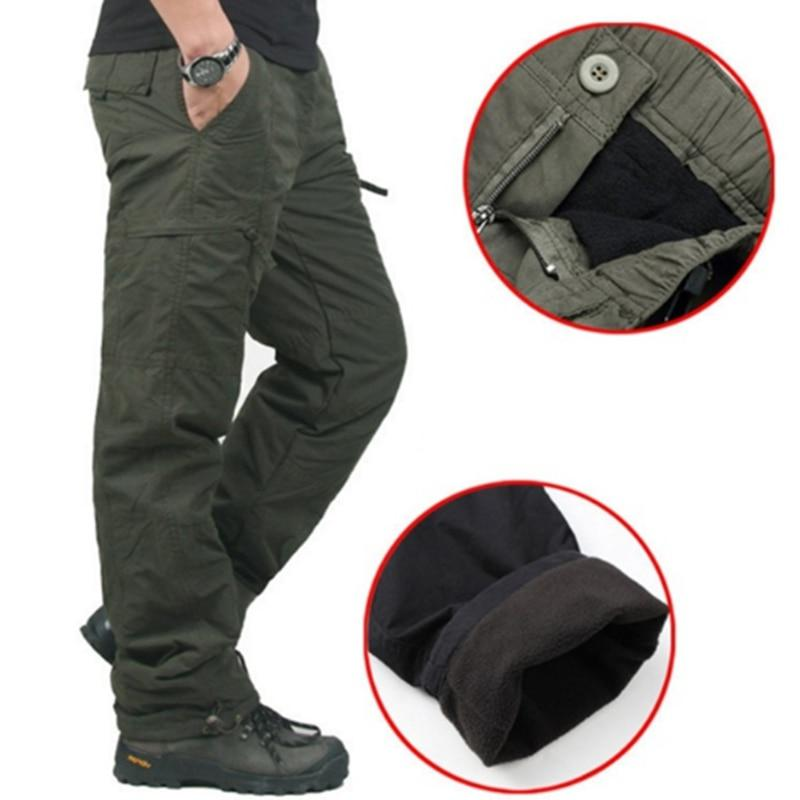pants: (84, 48, 411, 721)
